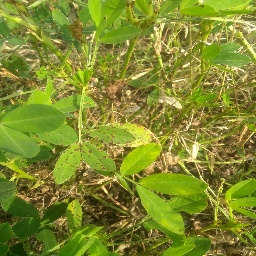GroundNut_Leaf: (136, 200, 185, 247), (1, 104, 65, 129), (139, 174, 207, 197), (89, 123, 158, 144), (177, 1, 256, 18), (52, 137, 79, 186), (121, 146, 164, 173), (81, 144, 115, 177), (89, 1, 123, 34), (1, 131, 41, 159), (1, 198, 42, 216), (225, 179, 256, 199), (203, 54, 250, 66), (65, 196, 80, 232), (187, 239, 212, 253), (227, 201, 256, 213), (203, 44, 242, 52)
